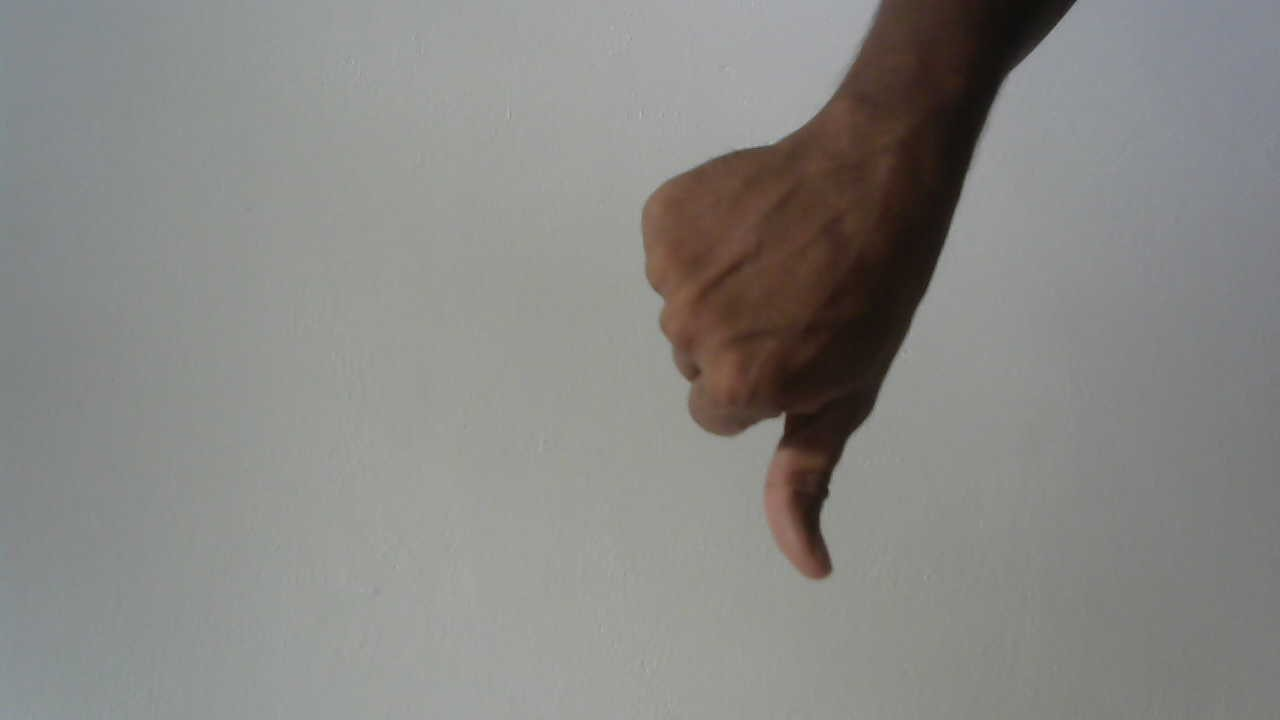thumbsdown: (636, 74, 962, 596)
